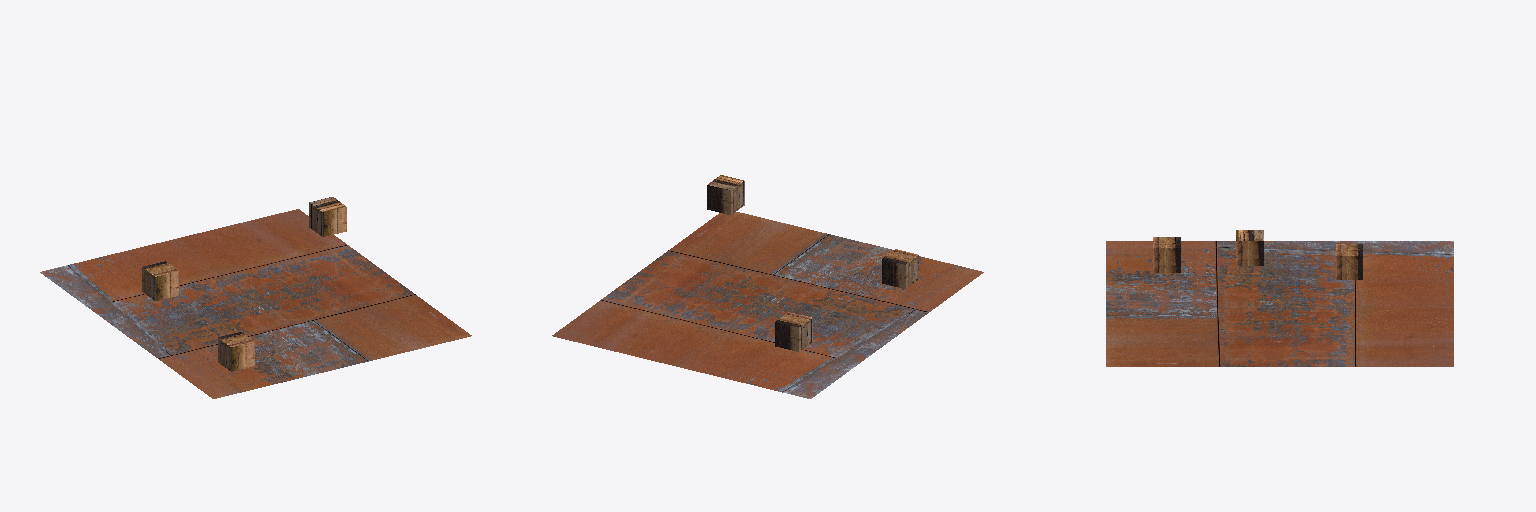
3 renders of one model, left to right at view 1: azimuth 30°, elevation 25°; view 2: azimuth 150°, elevation 25°; view 3: azimuth 270°, elevation 25°, orthographic.
Parts seen in each view (by area): view 1: Plane, Cube.002_Cube.003, Cube.001_Cube.002, Cube.003_Cube.004; view 2: Plane, Cube.002_Cube.003, Cube.001_Cube.002, Cube.003_Cube.004; view 3: Plane, Cube.002_Cube.003, Cube.003_Cube.004, Cube.001_Cube.002.
Boxes of the visible parts, <box> form: Plane: <box>40,209,471,398</box>; Cube.002_Cube.003: <box>309,197,346,236</box>; Cube.001_Cube.002: <box>142,261,178,300</box>; Cube.003_Cube.004: <box>218,332,254,371</box>; Plane: <box>552,212,983,398</box>; Cube.002_Cube.003: <box>707,175,744,214</box>; Cube.001_Cube.002: <box>775,312,812,351</box>; Cube.003_Cube.004: <box>882,249,918,288</box>; Plane: <box>1106,241,1453,366</box>; Cube.002_Cube.003: <box>1236,230,1263,265</box>; Cube.003_Cube.004: <box>1153,237,1180,272</box>; Cube.001_Cube.002: <box>1336,244,1362,279</box>.
Size of the model in its own units: 21.82 by 7.8 by 25.36.
2 materials, 2 textured.